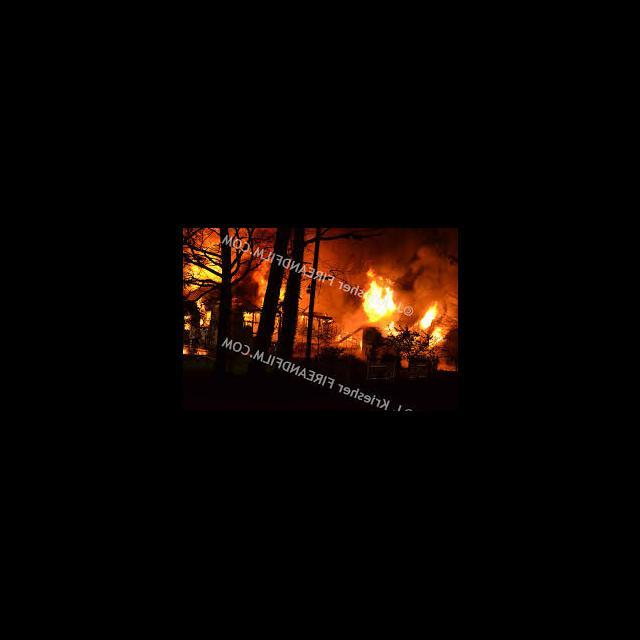Fire: (359, 266, 402, 324), (184, 247, 223, 294), (418, 302, 443, 328), (428, 326, 450, 348), (198, 299, 212, 328), (243, 313, 256, 328), (184, 312, 192, 336), (385, 324, 398, 336), (196, 349, 208, 357), (182, 346, 190, 355), (278, 290, 285, 300), (259, 278, 266, 286), (358, 340, 361, 351)
